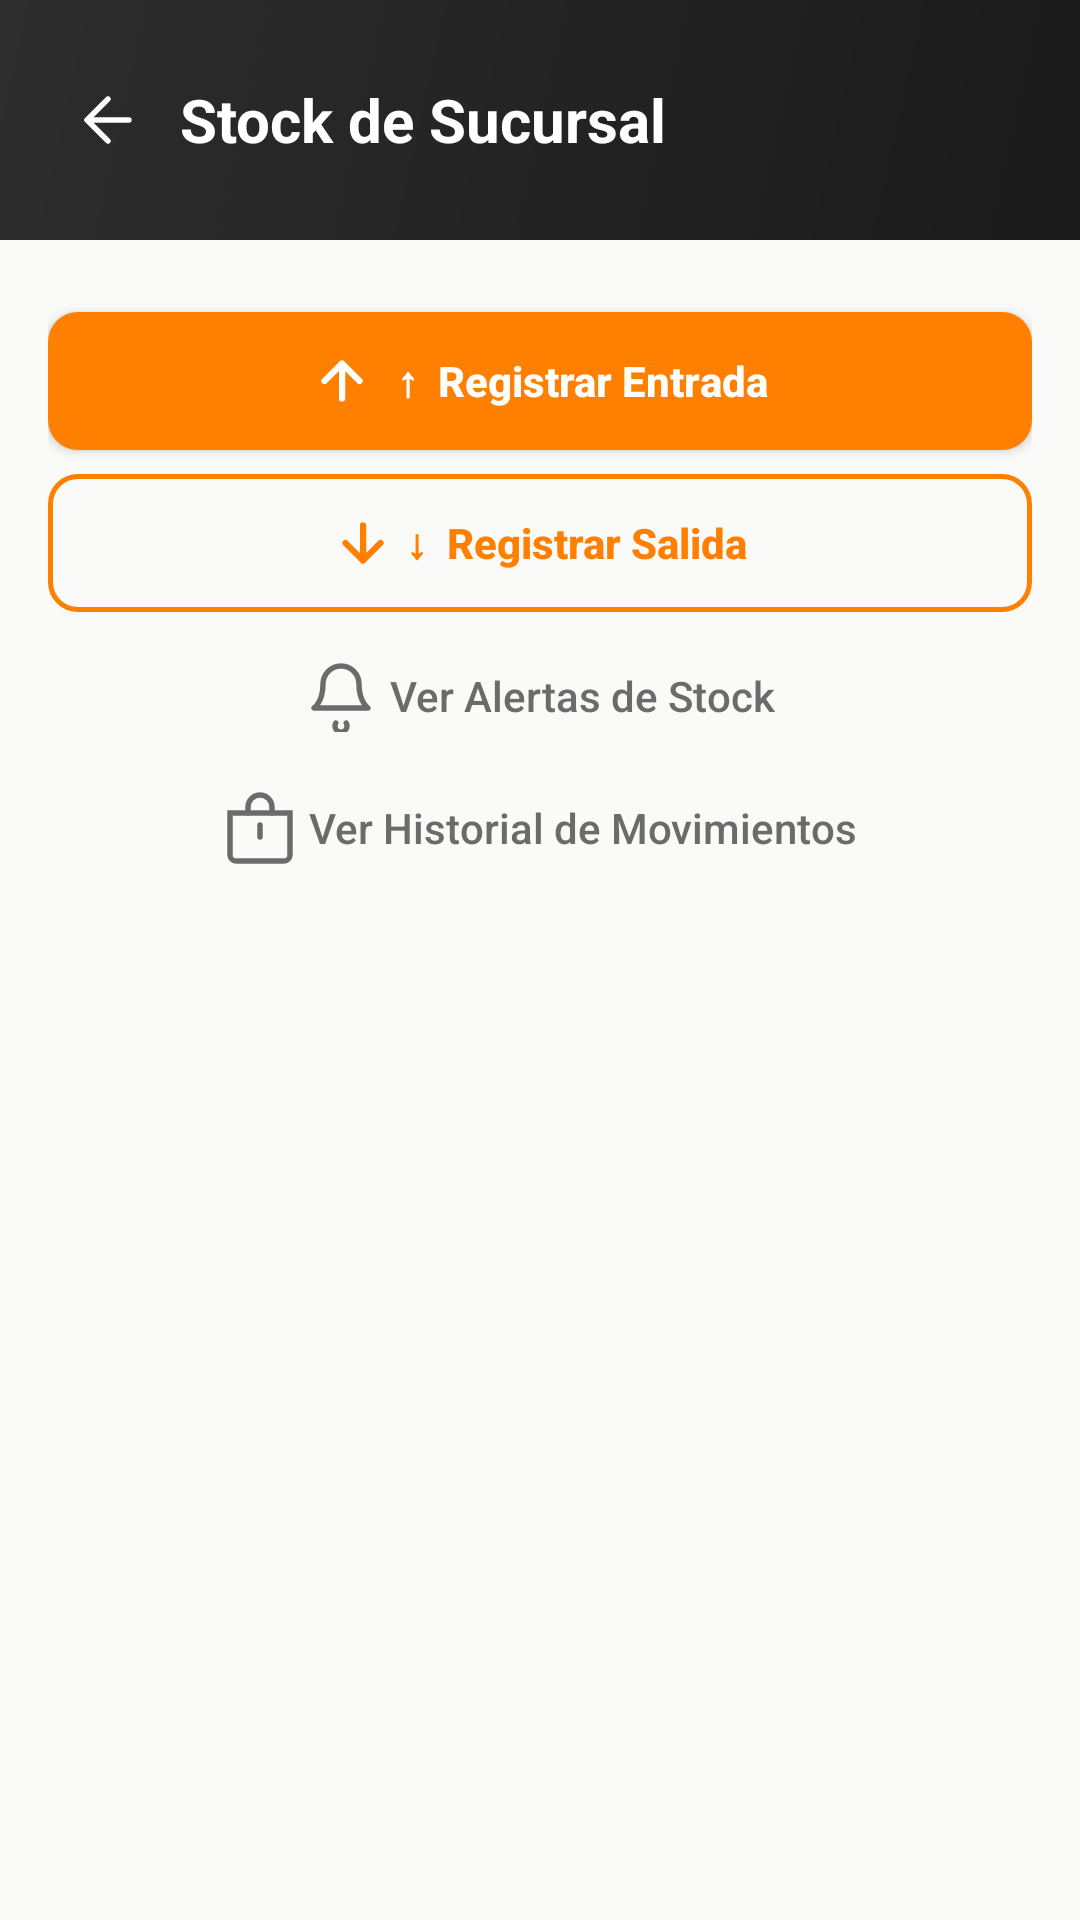

Icons on this 1080w x 1920h Android screen, each with its box as (x1, y1, x2, y2):
back: (84, 96, 132, 144)
